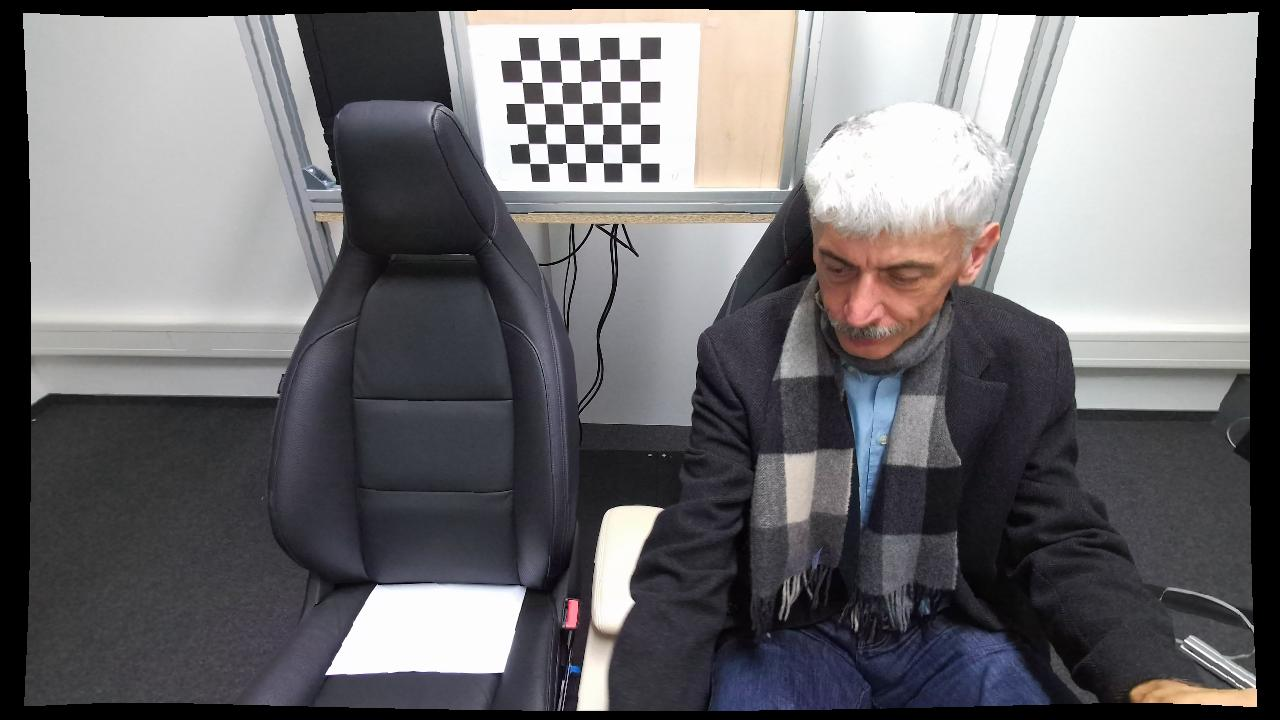Distracted: (607, 93, 1087, 710)
